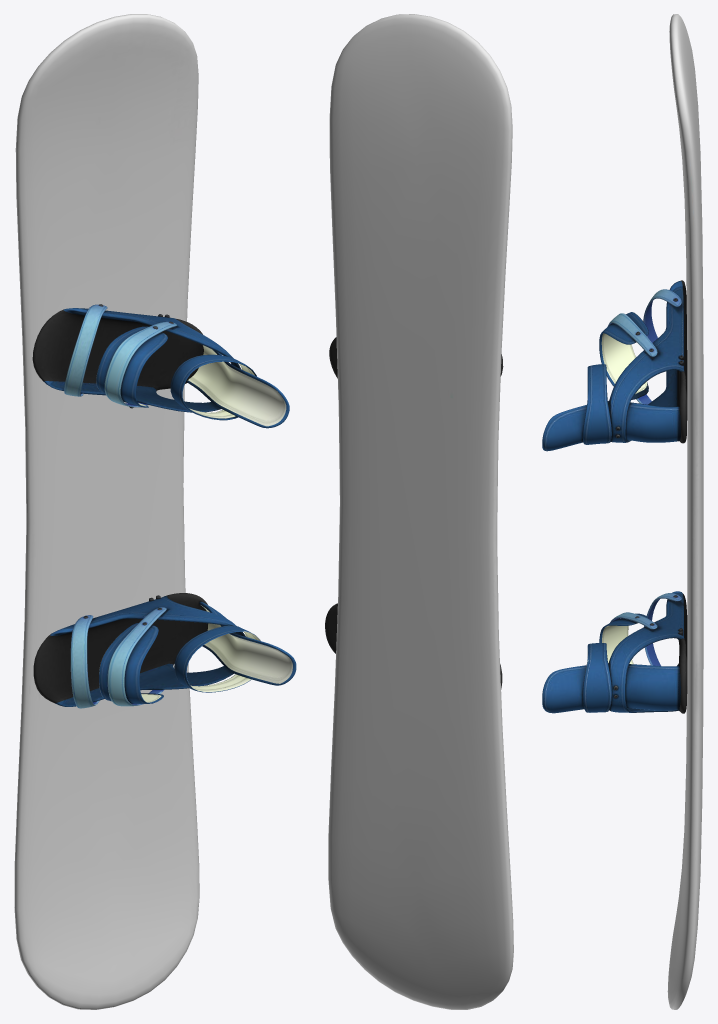
The model's file is 12325_Snowboard_v1_L3.obj.
3 renders of one model, left to right at view 1: azimuth 30°, elevation 25°; view 2: azimuth 150°, elevation 25°; view 3: azimuth 270°, elevation 25°, orthographic.
Parts seen in each view (by area): view 1: 12325_Snowboard_sg; view 2: 12325_Snowboard_sg; view 3: 12325_Snowboard_sg.
Part boxes in pixels (x1,y1,x2,y2): 12325_Snowboard_sg: (14,14,296,1009); 12325_Snowboard_sg: (325,14,513,1009); 12325_Snowboard_sg: (542,14,703,1009).
Bounding box in the file's own units: 36.01 × 165 × 24.75.
Materials: 1 (1 with a texture image).
